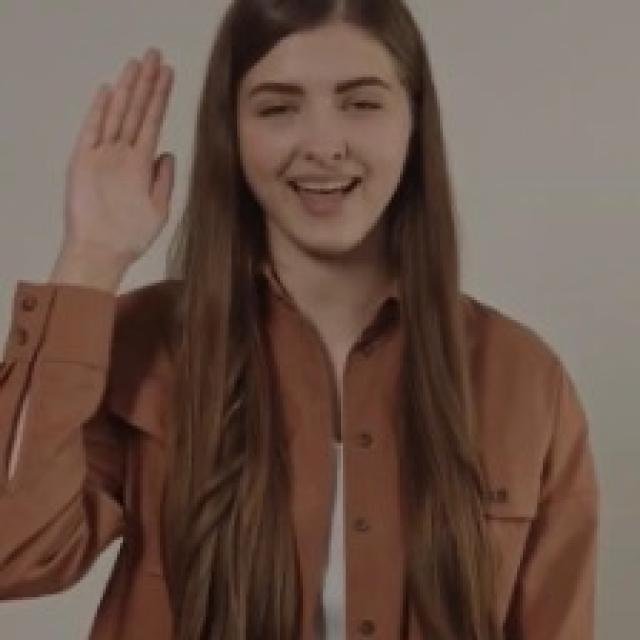Hello: (60, 40, 180, 258)
